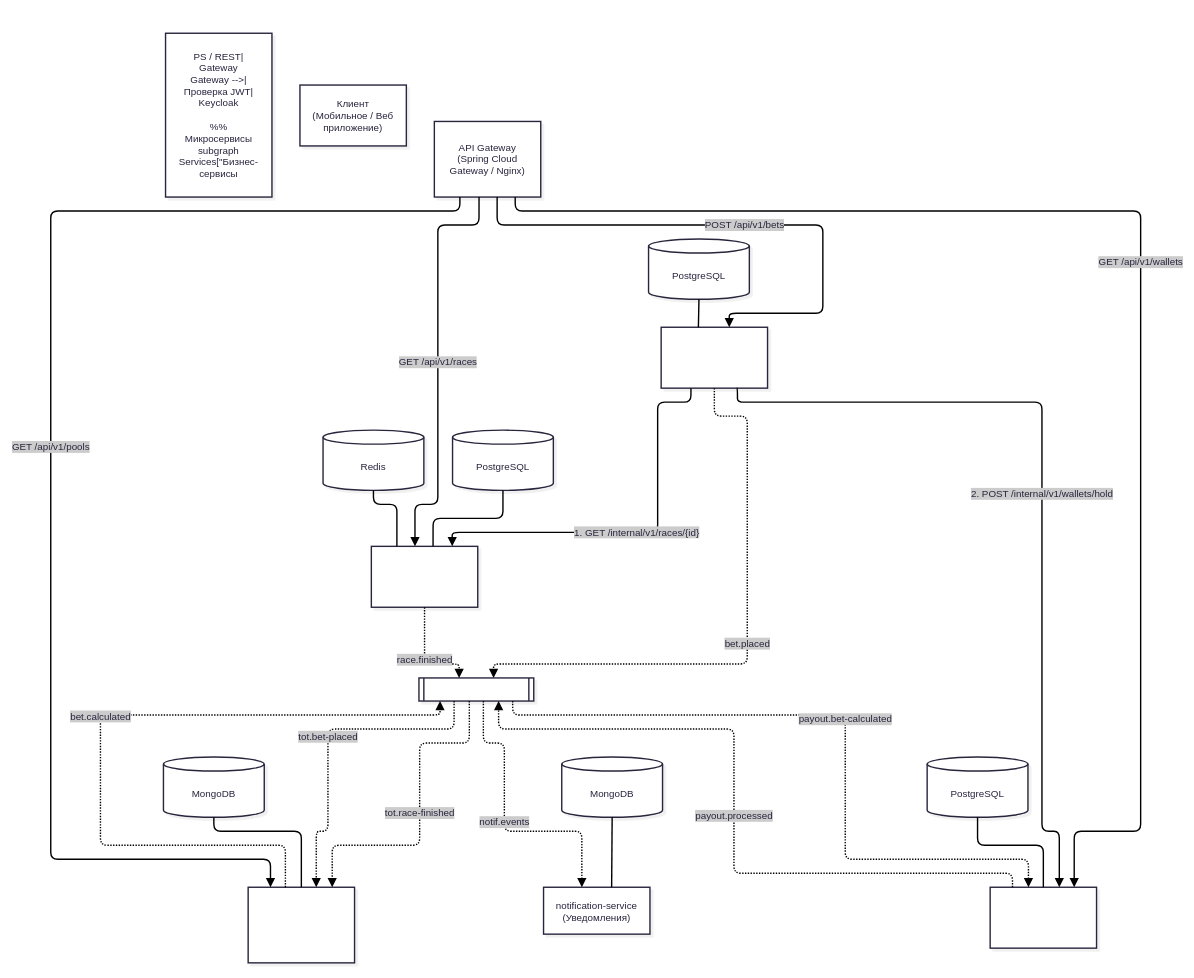
Some shapes in this 1194 by 978 pixel diagram are drawn without their labels. The shapes that lost their labels are listed below. From the top down, each one's centre as x and y in pixels, then its label:
At (x=715, y=358): "betting-service (Приём и отмена ставок)".
At (x=425, y=577): "race-service (Заезды и расписание)".
At (x=477, y=690): "Broker: RabbitMQ".
At (x=302, y=926): "totalizator-service (Расчёт пула и коэффициентов)".
At (x=1044, y=918): "payout-service (Кошельки и финансы)".
